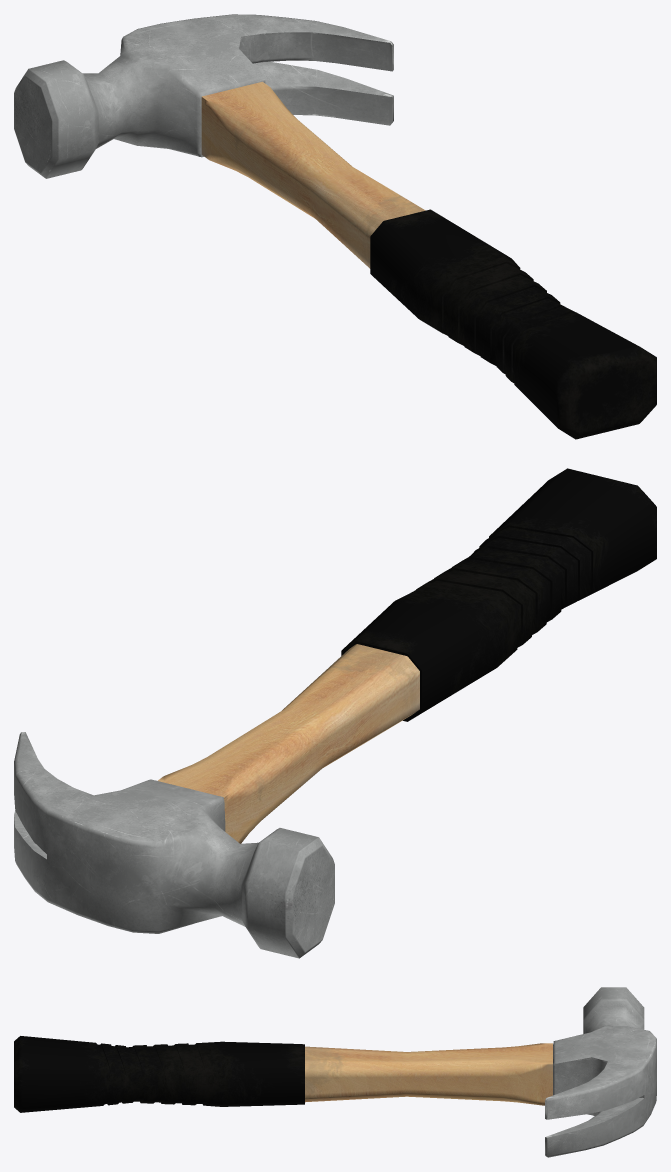
The model's file is hammermartillo (1).glb.
3 renders of one model, top to bottom at view 1: azimuth 30°, elevation 25°; view 2: azimuth 150°, elevation 25°; view 3: azimuth 270°, elevation 25°, orthographic. The views are drawn at different scales.
Visible parts, largest first — view 1: cabeza_low, goma_low, madera_low; view 2: cabeza_low, goma_low, madera_low; view 3: goma_low, cabeza_low, madera_low.
Boxes of the visible parts, x1,y1,x2,y2 form: cabeza_low: (14,14,393,178); goma_low: (370,209,656,439); madera_low: (201,81,425,268); cabeza_low: (14,732,334,958); goma_low: (341,468,656,721); madera_low: (157,644,419,843); goma_low: (14,1036,304,1112); cabeza_low: (545,987,656,1157); madera_low: (305,1043,552,1105).
Size of the model in its own units: 0.7998 by 0.2364 by 2.
3 materials, 3 textured.
